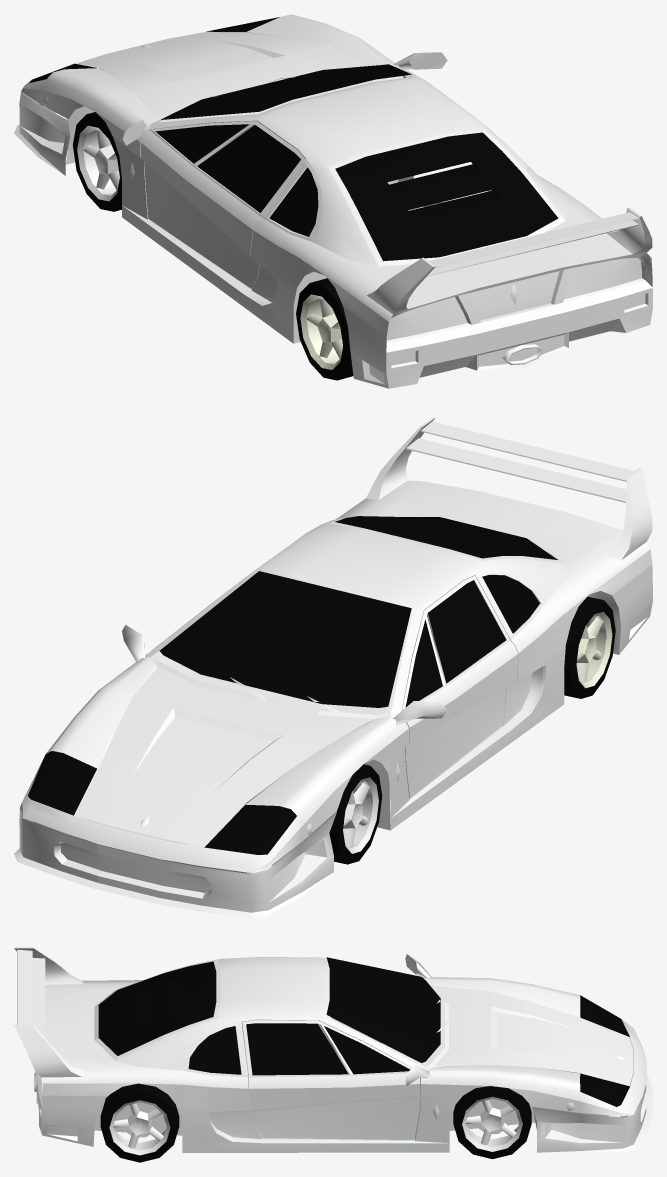
Rendered from turismo.glb.
3 views of the same model, one above another, from view 1: azimuth 30°, elevation 25°; view 2: azimuth 150°, elevation 25°; view 3: azimuth 270°, elevation 25° (orthographic). The views are drawn at different scales.
Visible parts, largest first — view 1: chassis, door_lf_ok, bonnet_ok, windscreen_ok.004, wheel.003, wheel.001, bump_front_ok; view 2: chassis, bonnet_ok, windscreen_ok.004, door_lf_ok, bump_front_ok, wheel.003, wheel.001; view 3: chassis, door_rf_ok, bonnet_ok, windscreen_ok.004, bump_front_ok, wheel.002, wheel.
Boxes of the visible parts, x1=… form: chassis: x1=21, y1=14, x2=652, y2=388; door_lf_ok: x1=141, y1=121, x2=305, y2=288; bonnet_ok: x1=76, y1=32, x2=368, y2=120; windscreen_ok.004: x1=161, y1=64, x2=411, y2=119; wheel.003: x1=296, y1=278, x2=353, y2=380; wheel.001: x1=73, y1=112, x2=121, y2=211; bump_front_ok: x1=14, y1=92, x2=70, y2=175; chassis: x1=20, y1=417, x2=652, y2=873; bonnet_ok: x1=75, y1=666, x2=372, y2=846; windscreen_ok.004: x1=159, y1=571, x2=411, y2=707; door_lf_ok: x1=401, y1=576, x2=518, y2=798; bump_front_ok: x1=14, y1=809, x2=336, y2=918; wheel.003: x1=564, y1=596, x2=615, y2=698; wheel.001: x1=329, y1=764, x2=382, y2=864; chassis: x1=14, y1=947, x2=646, y2=1152; door_rf_ok: x1=242, y1=1020, x2=420, y2=1139; bonnet_ok: x1=434, y1=985, x2=632, y2=1085; windscreen_ok.004: x1=326, y1=957, x2=440, y2=1062; bump_front_ok: x1=532, y1=1074, x2=652, y2=1153; wheel.002: x1=100, y1=1083, x2=179, y2=1162; wheel: x1=453, y1=1086, x2=531, y2=1159.
Bounding box in the file's own units: 2.46 × 1.21 × 5.4.
